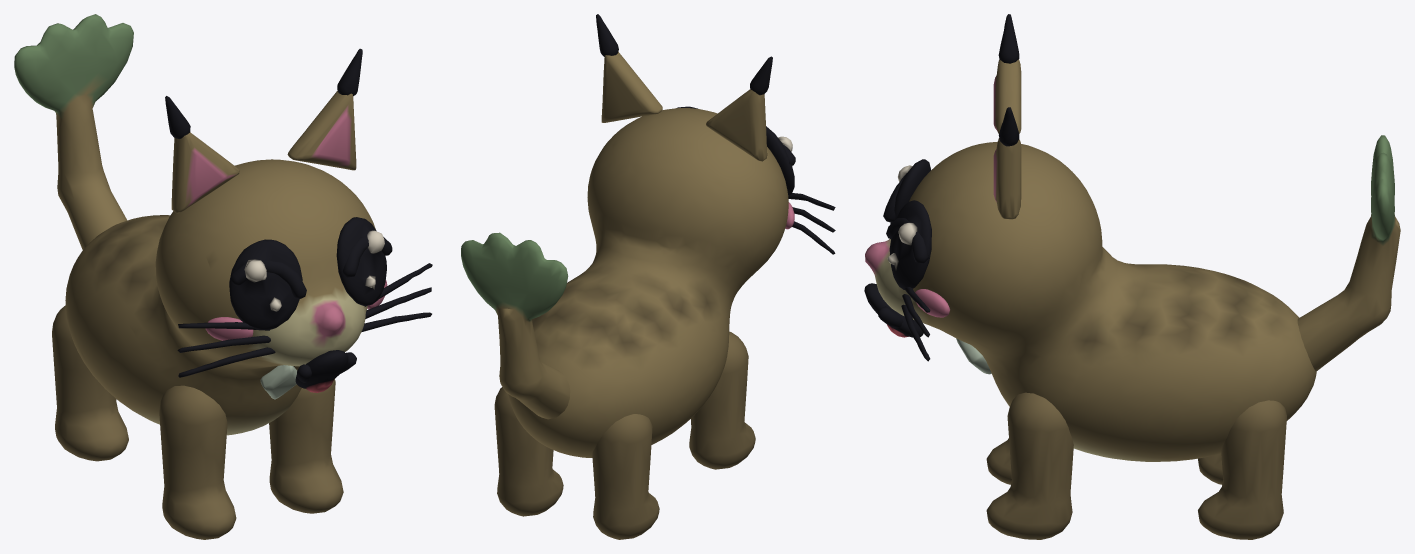
File: koglekat.glb
3 views of the same model, side by side, from view 1: azimuth 30°, elevation 25°; view 2: azimuth 150°, elevation 25°; view 3: azimuth 270°, elevation 25° (orthographic). The views are drawn at different scales.
Parts seen in each view (by area): view 1: body_mesh, tail_mesh, leg_0, leg_1, leg_3, eye_L, ear_R, ear_L, whiskers, eye_R, mouth_open, lid_L (+5 smaller); view 2: body_mesh, tail_mesh, leg_3, leg_0, leg_2, ear_R, ear_L, eye_L, whiskers, tuft_R, tuft_L; view 3: body_mesh, leg_1, tail_mesh, leg_2, eye_R, ear_R, ear_L, eye_L, whiskers, leg_0, mouth_open, tuft_L (+2 smaller).
Boxes of the visible parts, bbox=[...] form: body_mesh: bbox=[65, 159, 375, 435]; tail_mesh: bbox=[14, 14, 133, 250]; leg_0: bbox=[159, 385, 236, 539]; leg_1: bbox=[269, 379, 343, 513]; leg_3: bbox=[52, 305, 128, 461]; eye_L: bbox=[229, 239, 302, 330]; ear_R: bbox=[287, 91, 356, 170]; ear_L: bbox=[171, 132, 239, 213]; whiskers: bbox=[177, 263, 432, 377]; eye_R: bbox=[336, 217, 386, 305]; mouth_open: bbox=[295, 350, 348, 392]; lid_L: bbox=[230, 259, 306, 298]; body_mesh: bbox=[508, 108, 788, 457]; tail_mesh: bbox=[461, 232, 570, 419]; leg_3: bbox=[592, 414, 659, 539]; leg_0: bbox=[689, 331, 755, 469]; leg_2: bbox=[494, 387, 563, 516]; ear_R: bbox=[601, 52, 662, 122]; ear_L: bbox=[706, 89, 767, 161]; eye_L: bbox=[766, 126, 794, 195]; whiskers: bbox=[788, 193, 835, 254]; tuft_R: bbox=[596, 14, 618, 56]; tuft_L: bbox=[750, 56, 772, 95]; body_mesh: bbox=[865, 141, 1316, 461]; leg_1: bbox=[986, 392, 1073, 539]; tail_mesh: bbox=[1297, 135, 1400, 371]; leg_2: bbox=[1198, 400, 1286, 539]; eye_R: bbox=[887, 200, 931, 289]; ear_R: bbox=[993, 138, 1021, 219]; ear_L: bbox=[993, 59, 1021, 133]; eye_L: bbox=[890, 159, 930, 224]; whiskers: bbox=[901, 287, 930, 361]; leg_0: bbox=[986, 438, 1011, 484]; mouth_open: bbox=[864, 283, 923, 337]; tuft_L: bbox=[998, 14, 1019, 63].
Size of the model in its own units: 0.2772 by 0.4772 by 0.5156.
